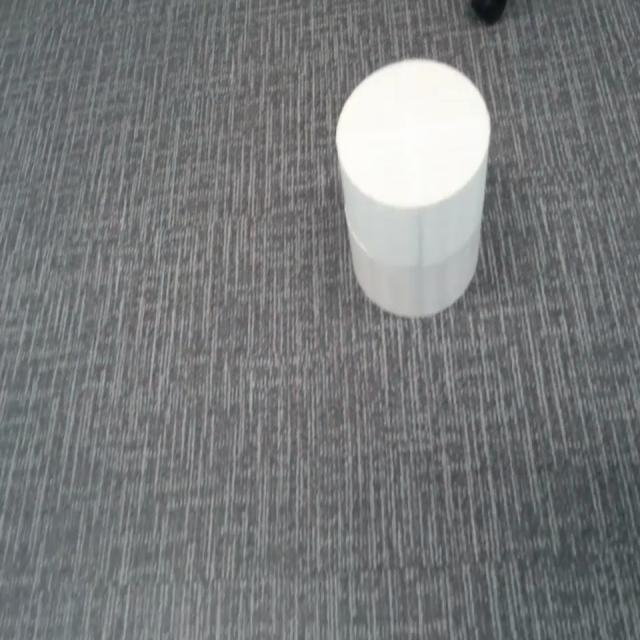cylinder: (335, 57, 493, 317)
